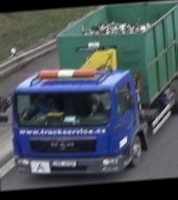truck: (0, 2, 178, 186)
